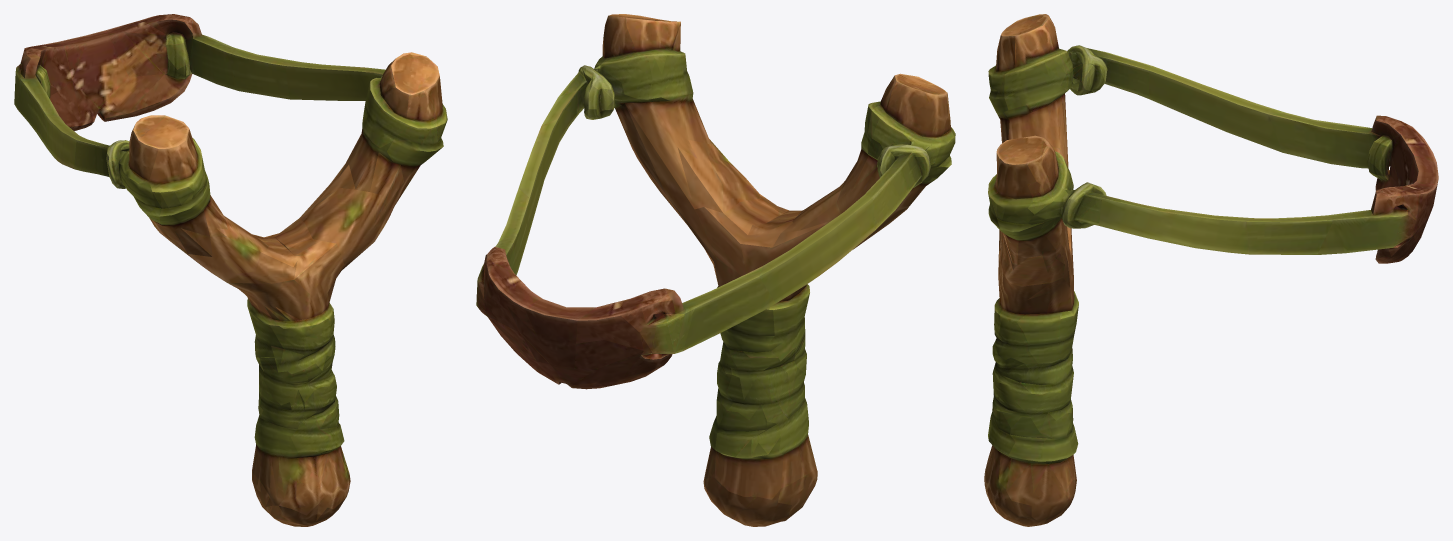
File: gremlin-slingshot.glb
3 renders of one model, left to right at view 1: azimuth 30°, elevation 25°; view 2: azimuth 150°, elevation 25°; view 3: azimuth 270°, elevation 25°, orthographic. The views are drawn at different scales.
Visible parts, largest first — view 1: output_unwrapped; view 2: output_unwrapped; view 3: output_unwrapped.
Part boxes in pixels (x1=…): output_unwrapped: x1=14, y1=14, x2=447, y2=526; output_unwrapped: x1=476, y1=14, x2=955, y2=526; output_unwrapped: x1=984, y1=14, x2=1438, y2=526.
Bounding box in the file's own units: 1.44 × 1.9 × 1.81.
Materials: 1 (1 with a texture image).
